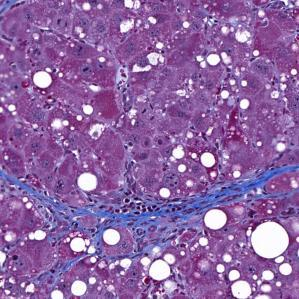fibrosis: (46, 196, 209, 238)
